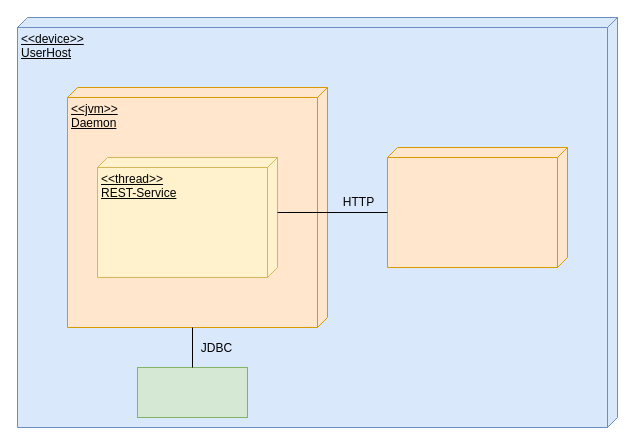
This 635x445 diagram has some shape labels left out. Each missing label, with the centre of its shape:
<<jvm>> CLI: pixel 477 207
«database» SQLite: pixel 192 392
